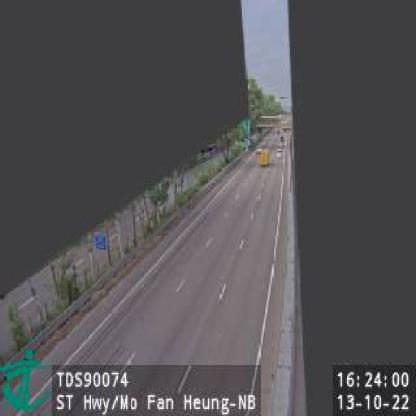Truck: (258, 144, 270, 167)
